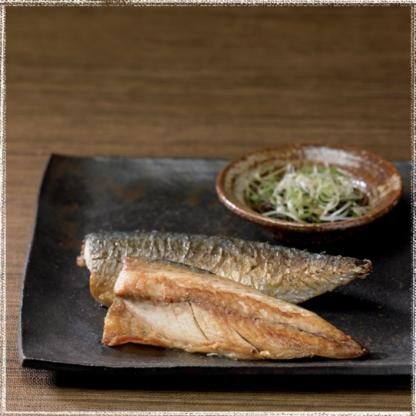Peixe: (56, 230, 376, 354)
